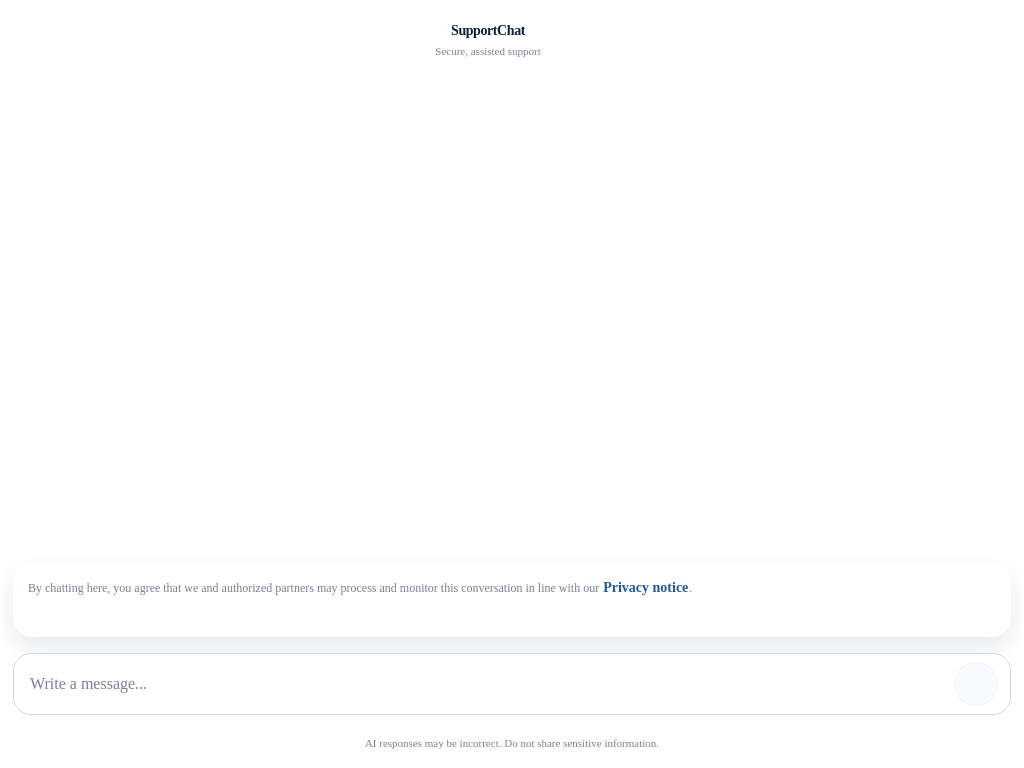
canonical visitor rows › retried unacked client id renders the canonical row once
Type "still there?" into the field labelled "message" at (486, 684), box [26,662,946,706]
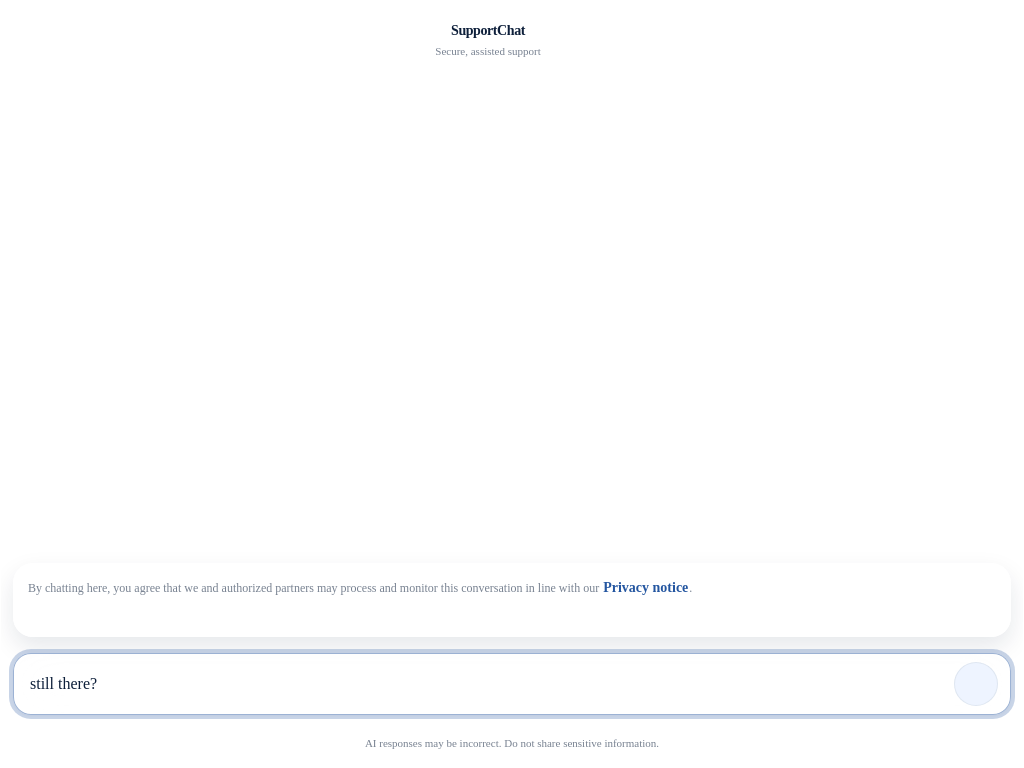
Click the button named "Send" at (976, 684), box [954,662,998,706]
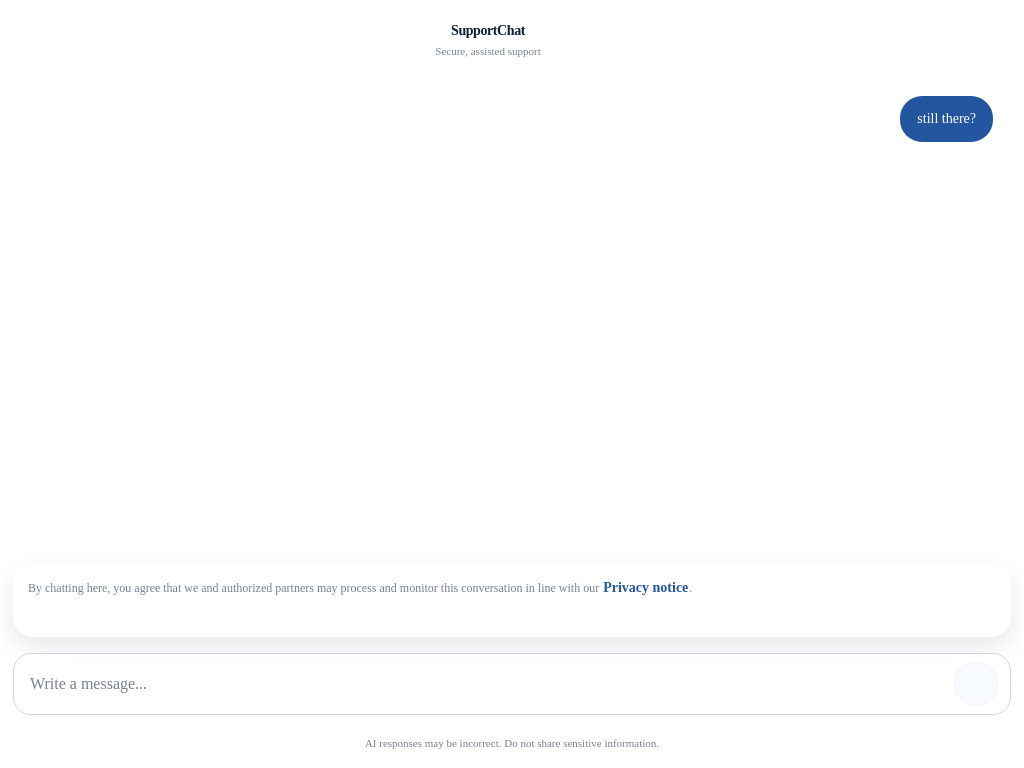
Expected: the number of buttons "still there?" is 1, [900,96,993,142]
